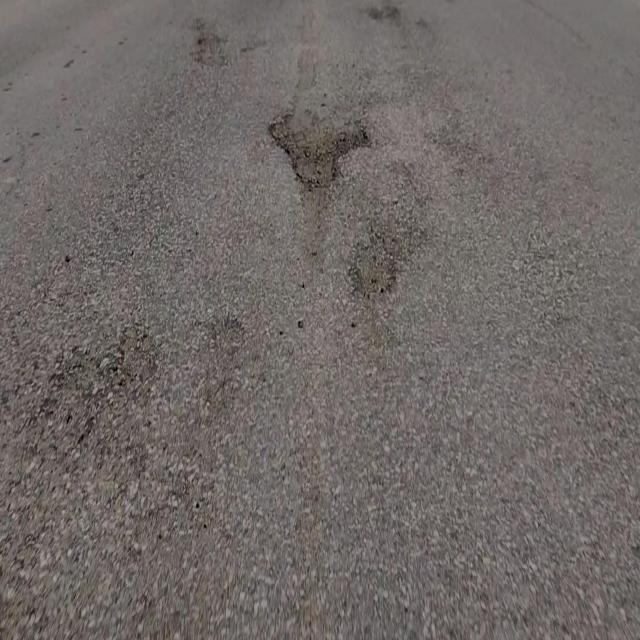pothole: (266, 102, 372, 191), (345, 230, 405, 301)
